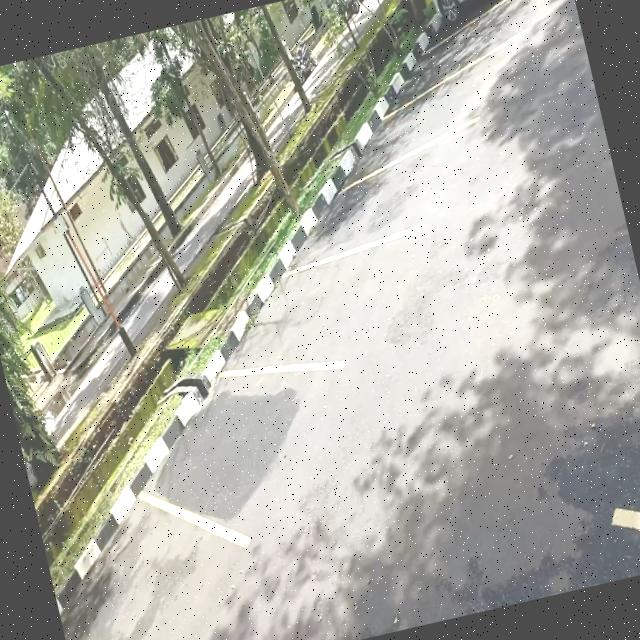empty: (158, 353, 342, 552), (41, 499, 241, 640), (250, 240, 417, 380), (306, 160, 432, 260), (358, 72, 484, 166)
